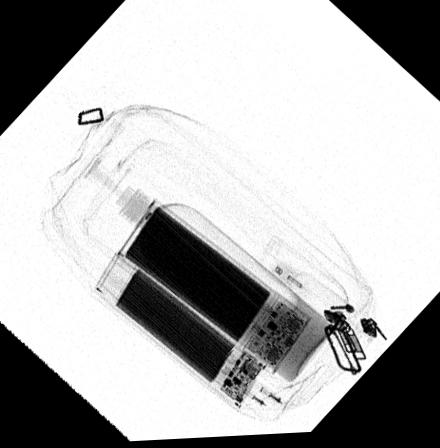Powerbank: (113, 199, 311, 378), (91, 249, 269, 415)
